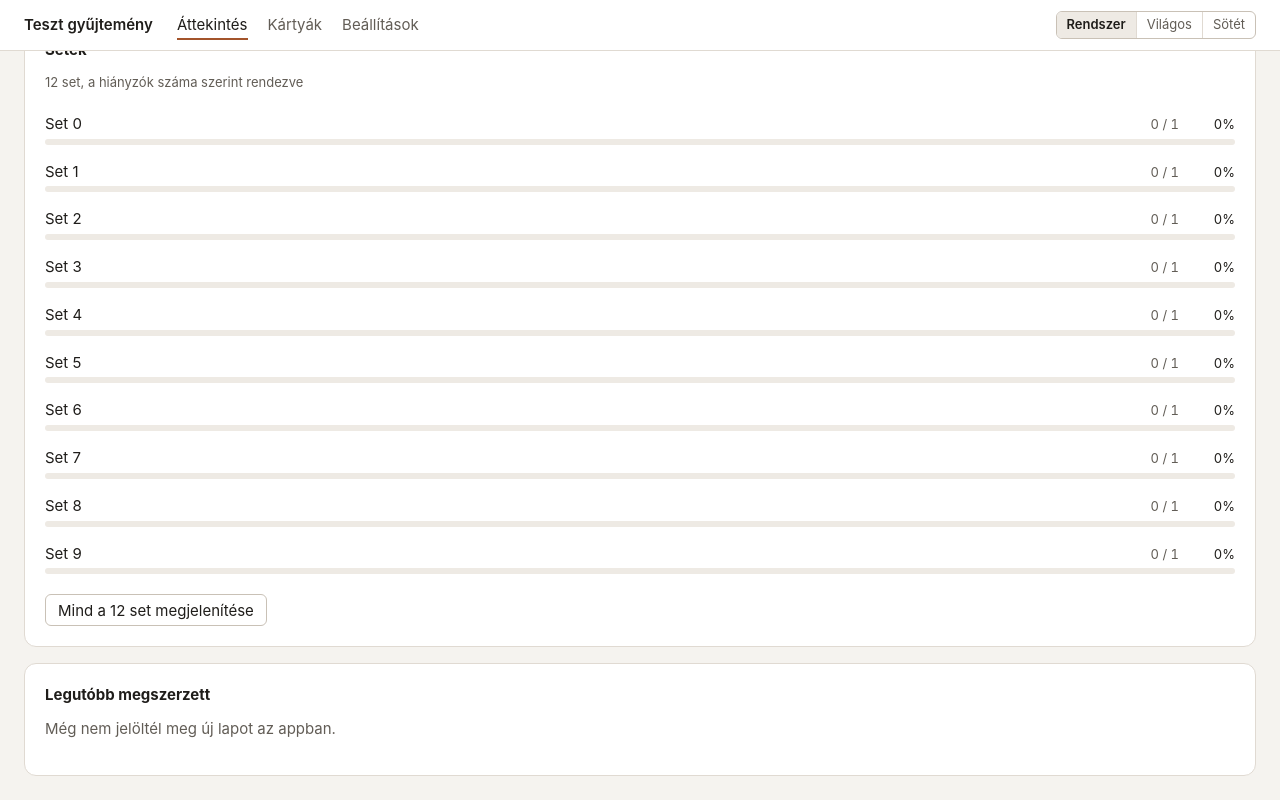
Test: Áttekintés oldal (S-30…S-33) › a setek alapból összecsukva, kinyithatók
(page scrolled)
Check: the link "Set 11" is not shown
Step 1. Click the button "Mind a 12 set megjelenítése" → (156, 610), box [45,594,267,626]
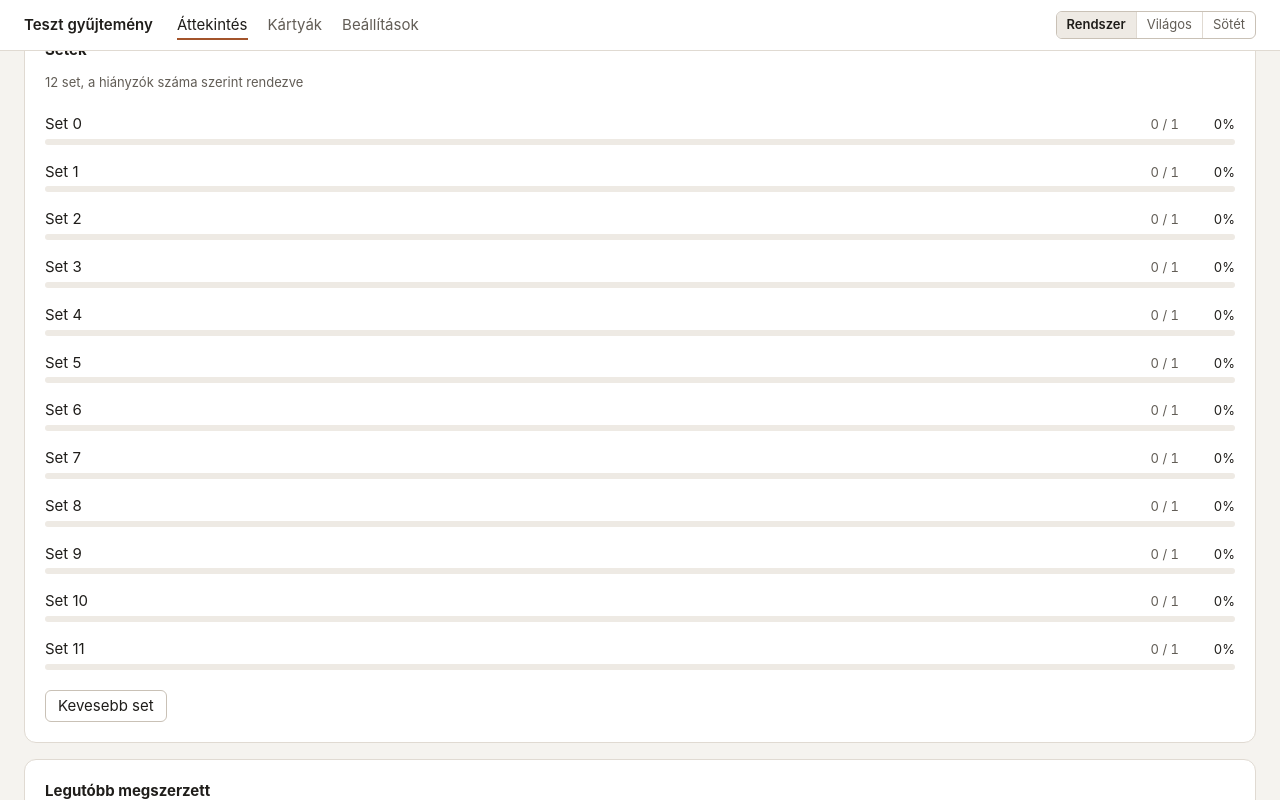
Check: the link "Set 11 0 / 1 0%" is shown, box [39,630,1241,678]
